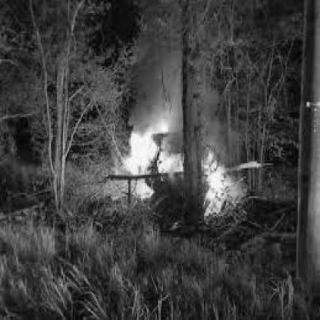Fire: (90, 85, 251, 223)
